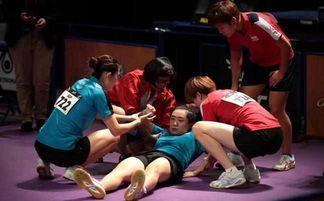Fall-Detected: (72, 99, 210, 200)
